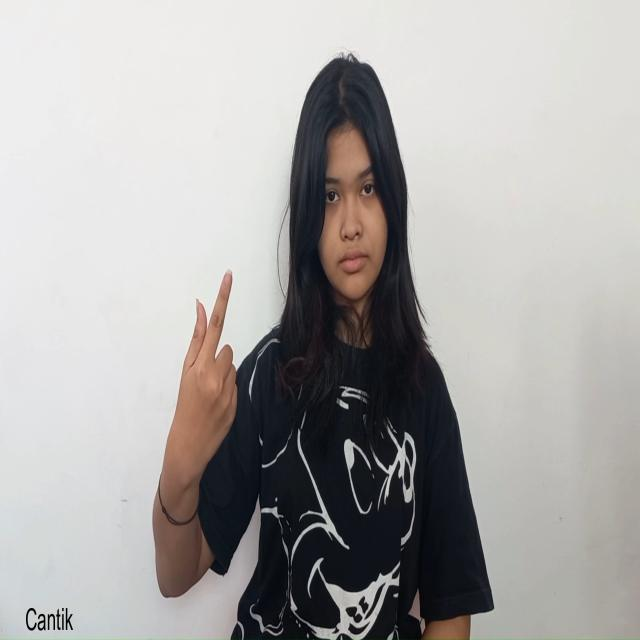Cantik -BISINDO-: (162, 265, 239, 496)
